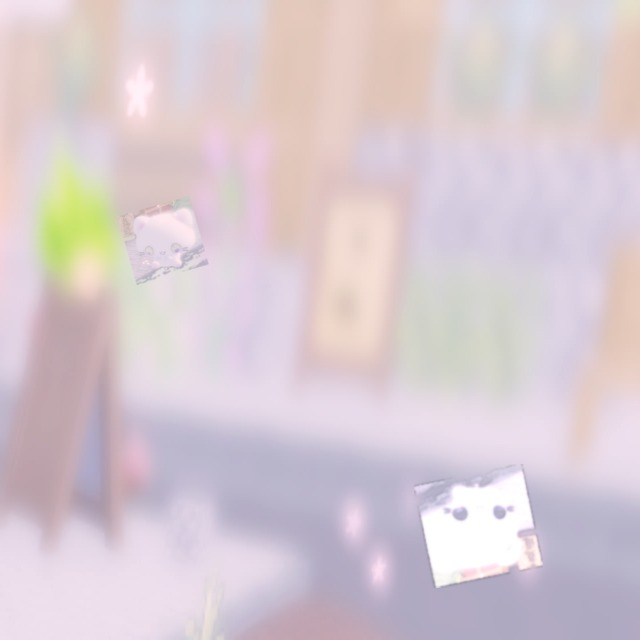urso_branco: (414, 464, 543, 588), (117, 196, 209, 285)
